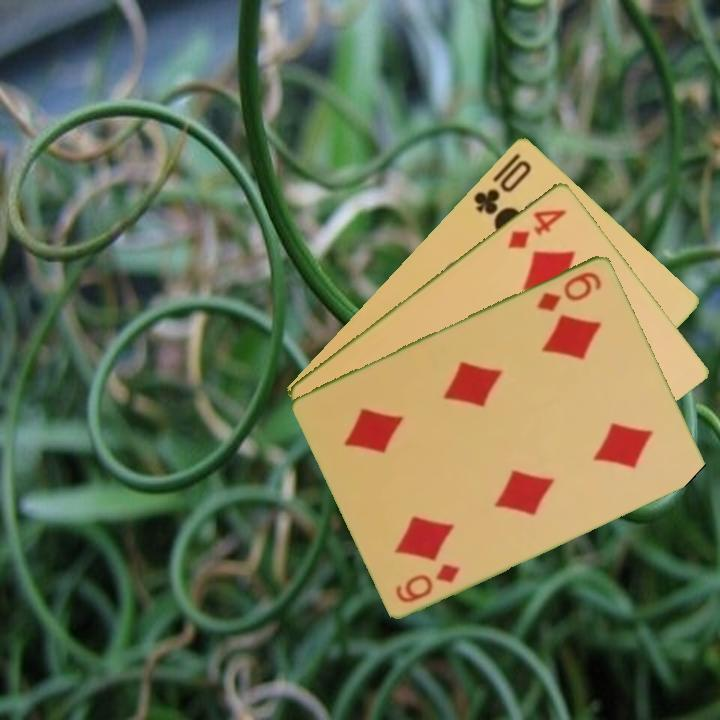10c: (469, 155, 534, 218)
4d: (504, 204, 569, 252)
6d: (533, 267, 605, 314), (392, 559, 463, 606)
